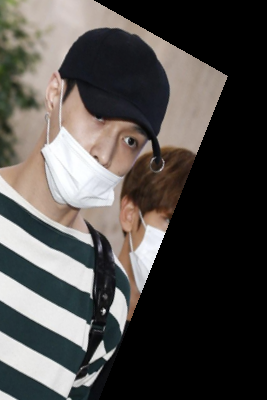mask_weared_incorrect: (38, 20, 178, 216)
